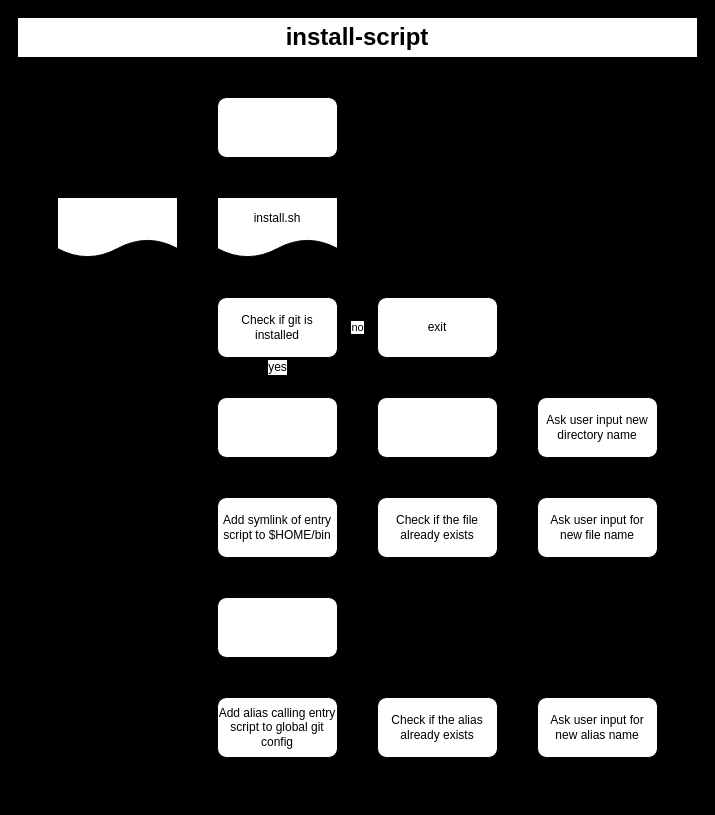
The diagram is 715 pixels wide and 815 high, and some of its shapes have lost their labels. Each missing label, with the centre of its shape:
"Add $HOME/bin to $PATH" goes at point (277, 627).
"Check if script directory already exists" goes at point (437, 427).
"execute" goes at point (277, 127).
"git-backup-[version].tar.gz" goes at point (117, 227).
"Install scripts to $HOME/lib" goes at point (277, 427).
